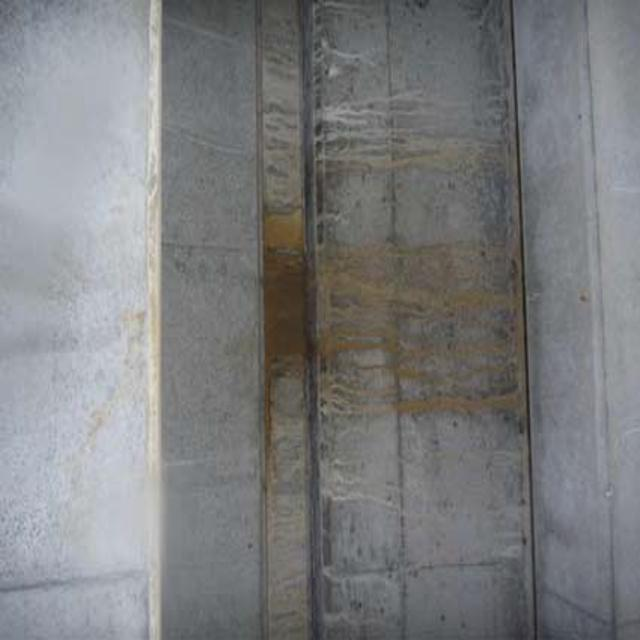leakage: (213, 166, 538, 430)
